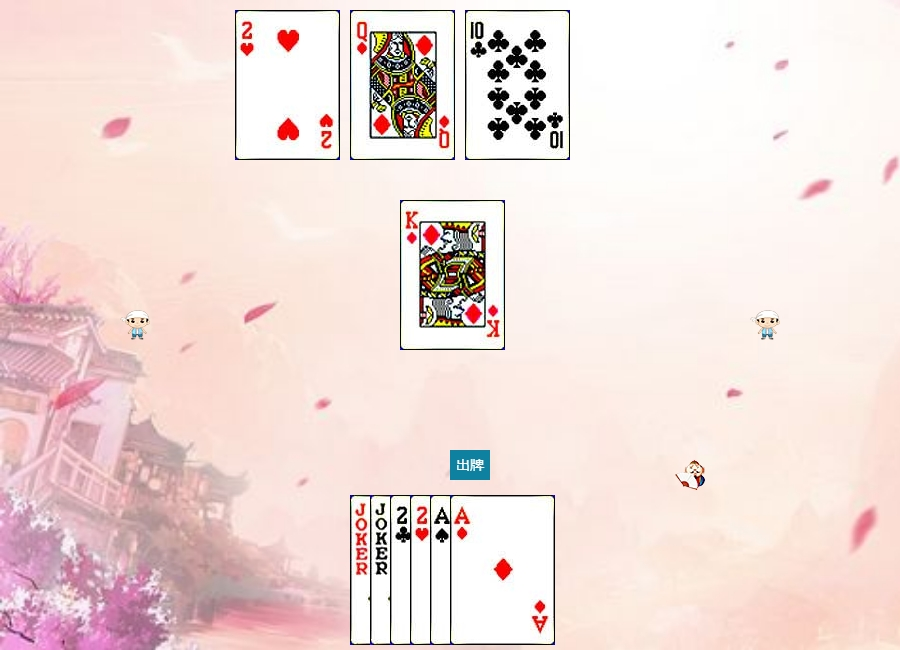10~2: (465, 10, 570, 160)
12~1: (350, 10, 455, 160)
13~1: (400, 200, 505, 350)
14~1: (450, 495, 555, 645)
14~4: (430, 495, 535, 645)
15~2: (390, 495, 495, 645)
15~3: (235, 10, 340, 160), (410, 495, 515, 645)
17~3: (370, 495, 475, 645)
18~4: (350, 495, 455, 645)
